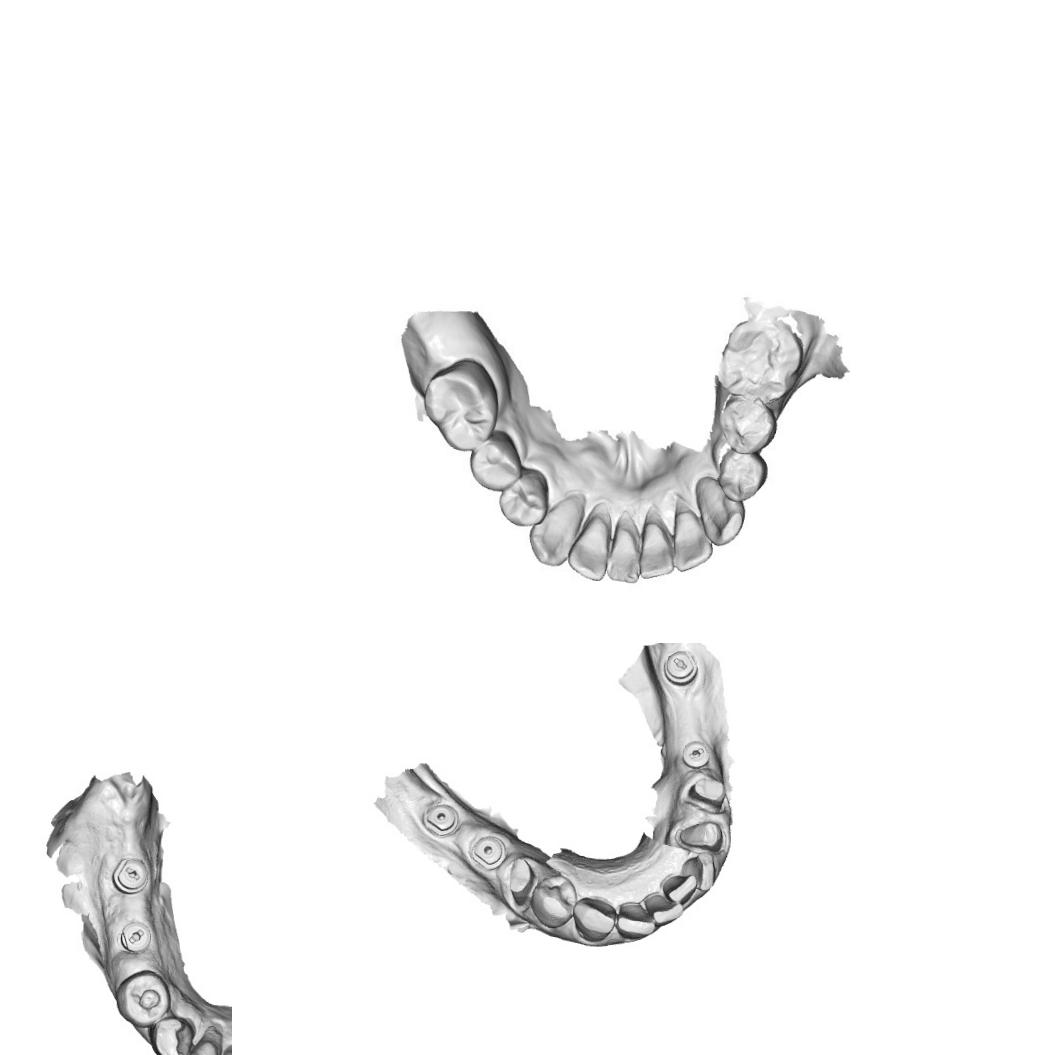canine: (532, 497, 584, 564), (696, 478, 744, 540), (571, 895, 618, 944), (146, 1015, 197, 1055)
crown: (675, 818, 726, 852), (504, 855, 536, 909), (686, 774, 729, 808)
implant: (468, 833, 508, 871), (423, 800, 461, 837)
implant_minus: (110, 855, 150, 896), (661, 648, 700, 686), (119, 920, 153, 954), (680, 738, 714, 770)
incisor: (572, 503, 611, 584), (670, 502, 710, 567), (607, 515, 642, 580), (640, 511, 676, 571), (614, 900, 657, 941), (678, 851, 717, 893), (174, 1023, 224, 1055), (643, 892, 684, 926), (660, 872, 700, 906)
molar: (421, 361, 500, 447), (722, 316, 802, 398)
premolar: (113, 966, 173, 1030), (528, 871, 580, 931), (720, 400, 776, 452), (717, 448, 768, 499), (496, 474, 548, 523), (470, 440, 518, 489)
